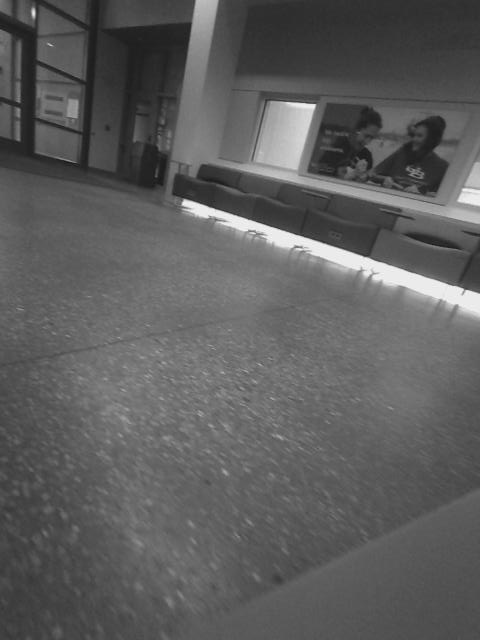ball: (148, 231, 198, 281)
